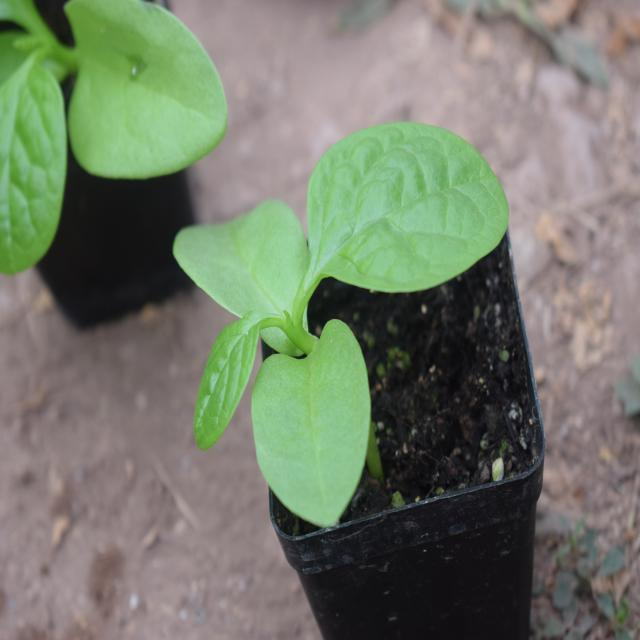Ceylon spinach: (190, 102, 470, 512)
